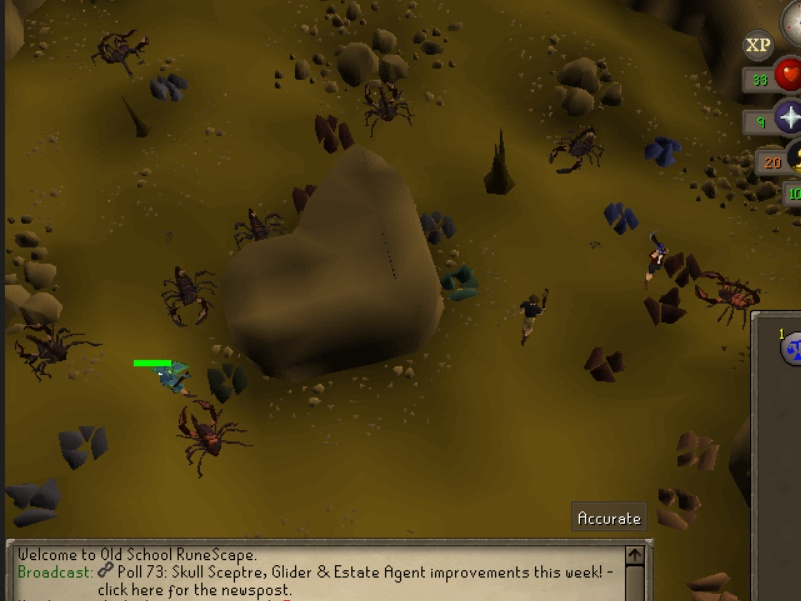adamant: (434, 263, 486, 307)
coal: (201, 359, 252, 409)
copper: (670, 420, 724, 480), (650, 482, 708, 533), (687, 567, 745, 601)
iron: (309, 109, 358, 155), (580, 343, 629, 389), (644, 285, 687, 325), (661, 247, 704, 287)
mithril: (640, 129, 686, 170), (598, 197, 644, 238)
